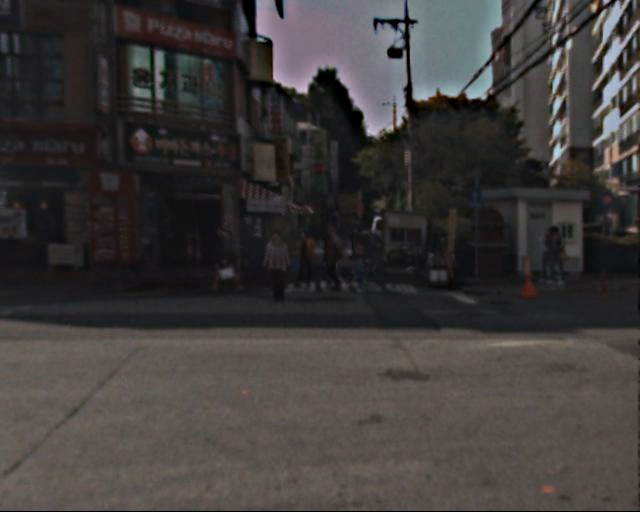person: (262, 228, 293, 303), (320, 219, 350, 291), (214, 223, 242, 291), (542, 226, 568, 289), (295, 232, 318, 289), (355, 221, 379, 267), (356, 247, 376, 296)
